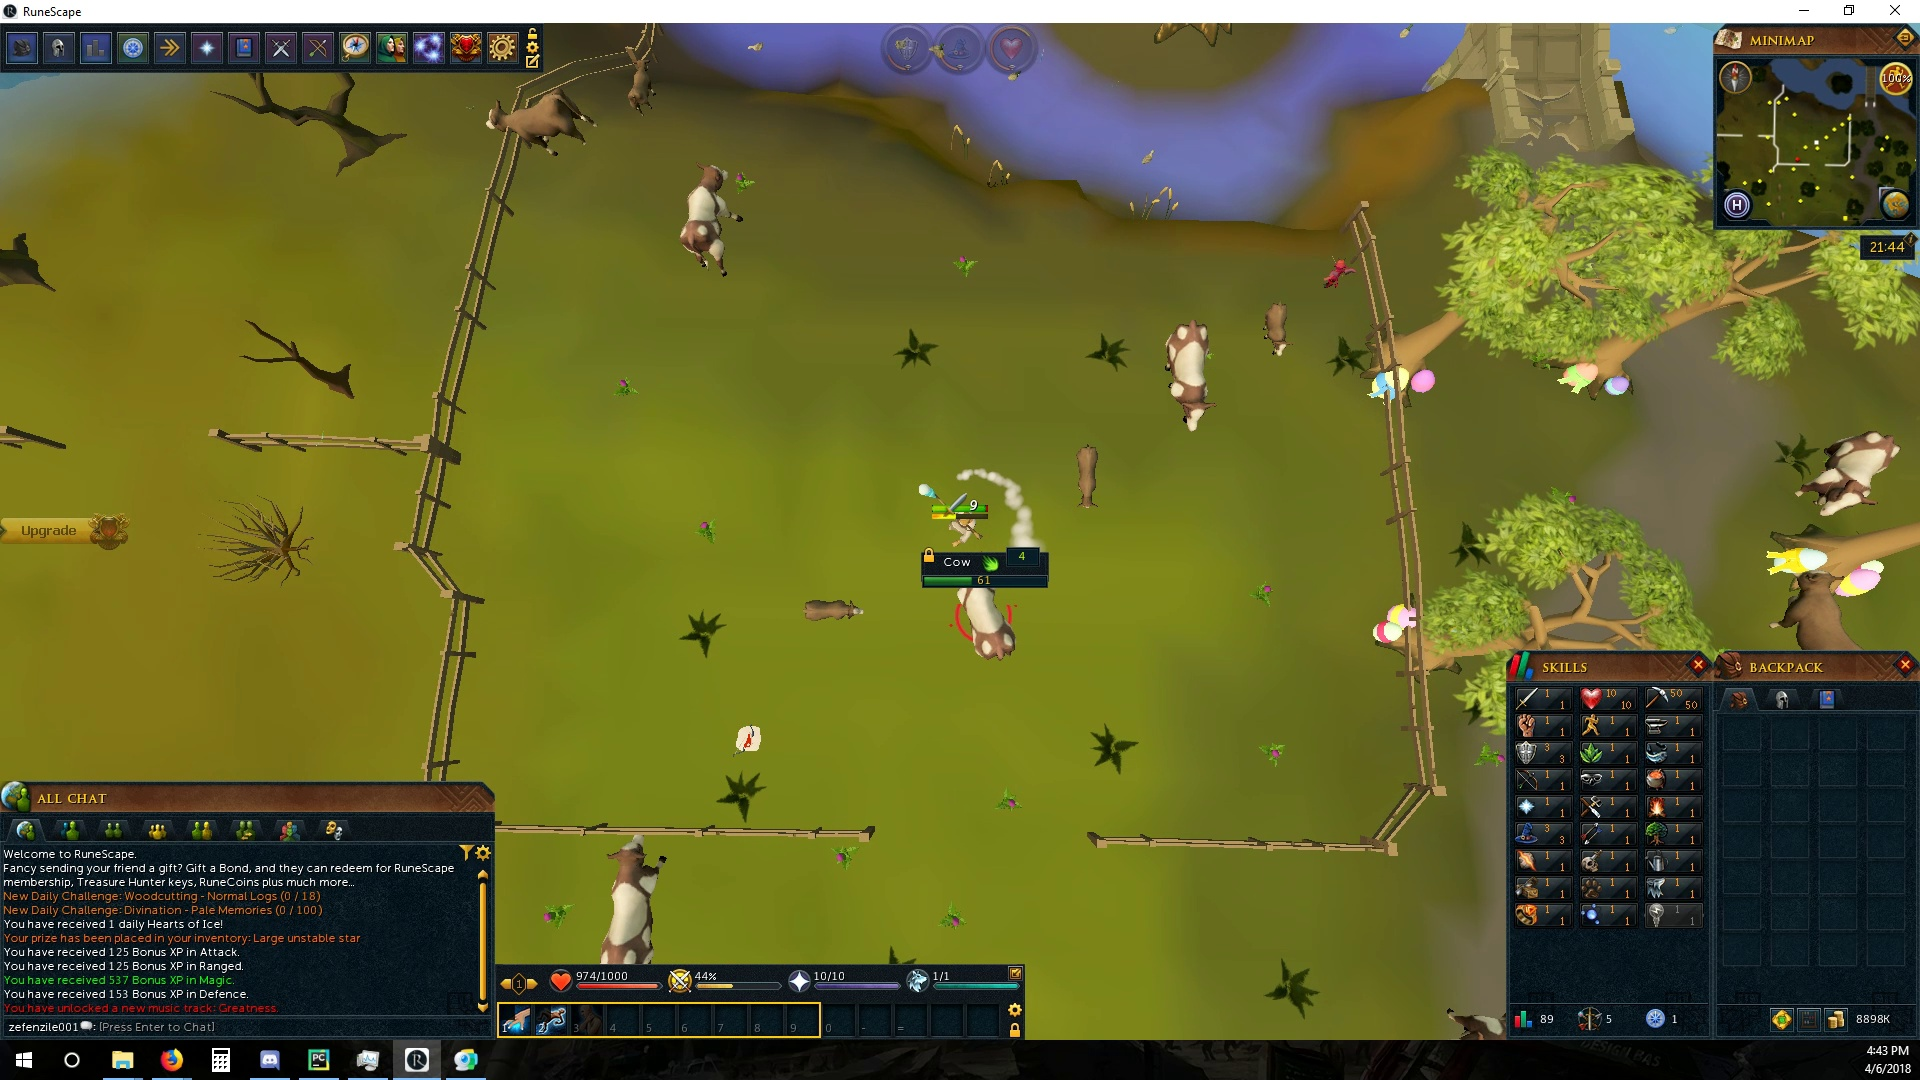calf: (626, 55, 661, 117), (1073, 438, 1100, 516), (1261, 301, 1294, 360), (803, 597, 869, 626)
cow: (1789, 429, 1905, 520), (592, 832, 670, 967), (675, 160, 748, 287), (1766, 564, 1871, 651), (483, 88, 600, 160), (1160, 319, 1216, 433), (952, 587, 1018, 659)
cow_drop: (733, 723, 765, 750)
